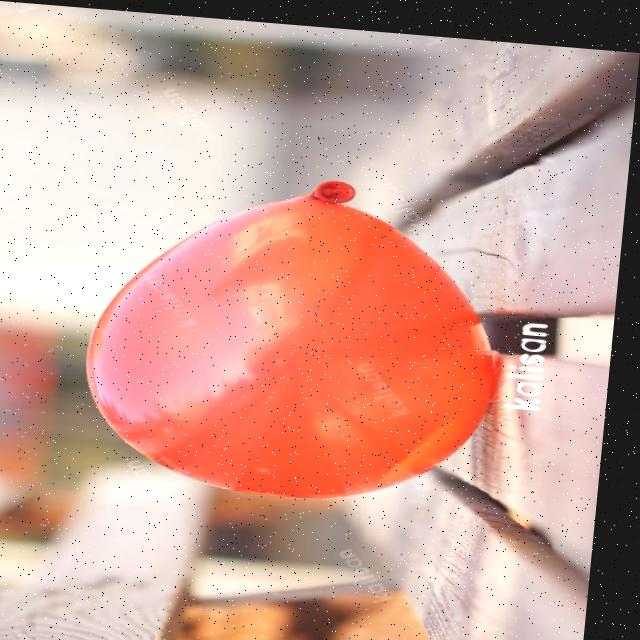balloon: (45, 135, 530, 511)
